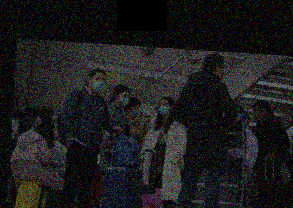with_mask: (90, 74, 106, 92), (156, 101, 170, 116), (117, 92, 130, 106), (39, 113, 52, 125), (129, 104, 140, 118)
without_mask: (250, 108, 262, 121), (219, 65, 226, 79), (12, 100, 18, 115)
